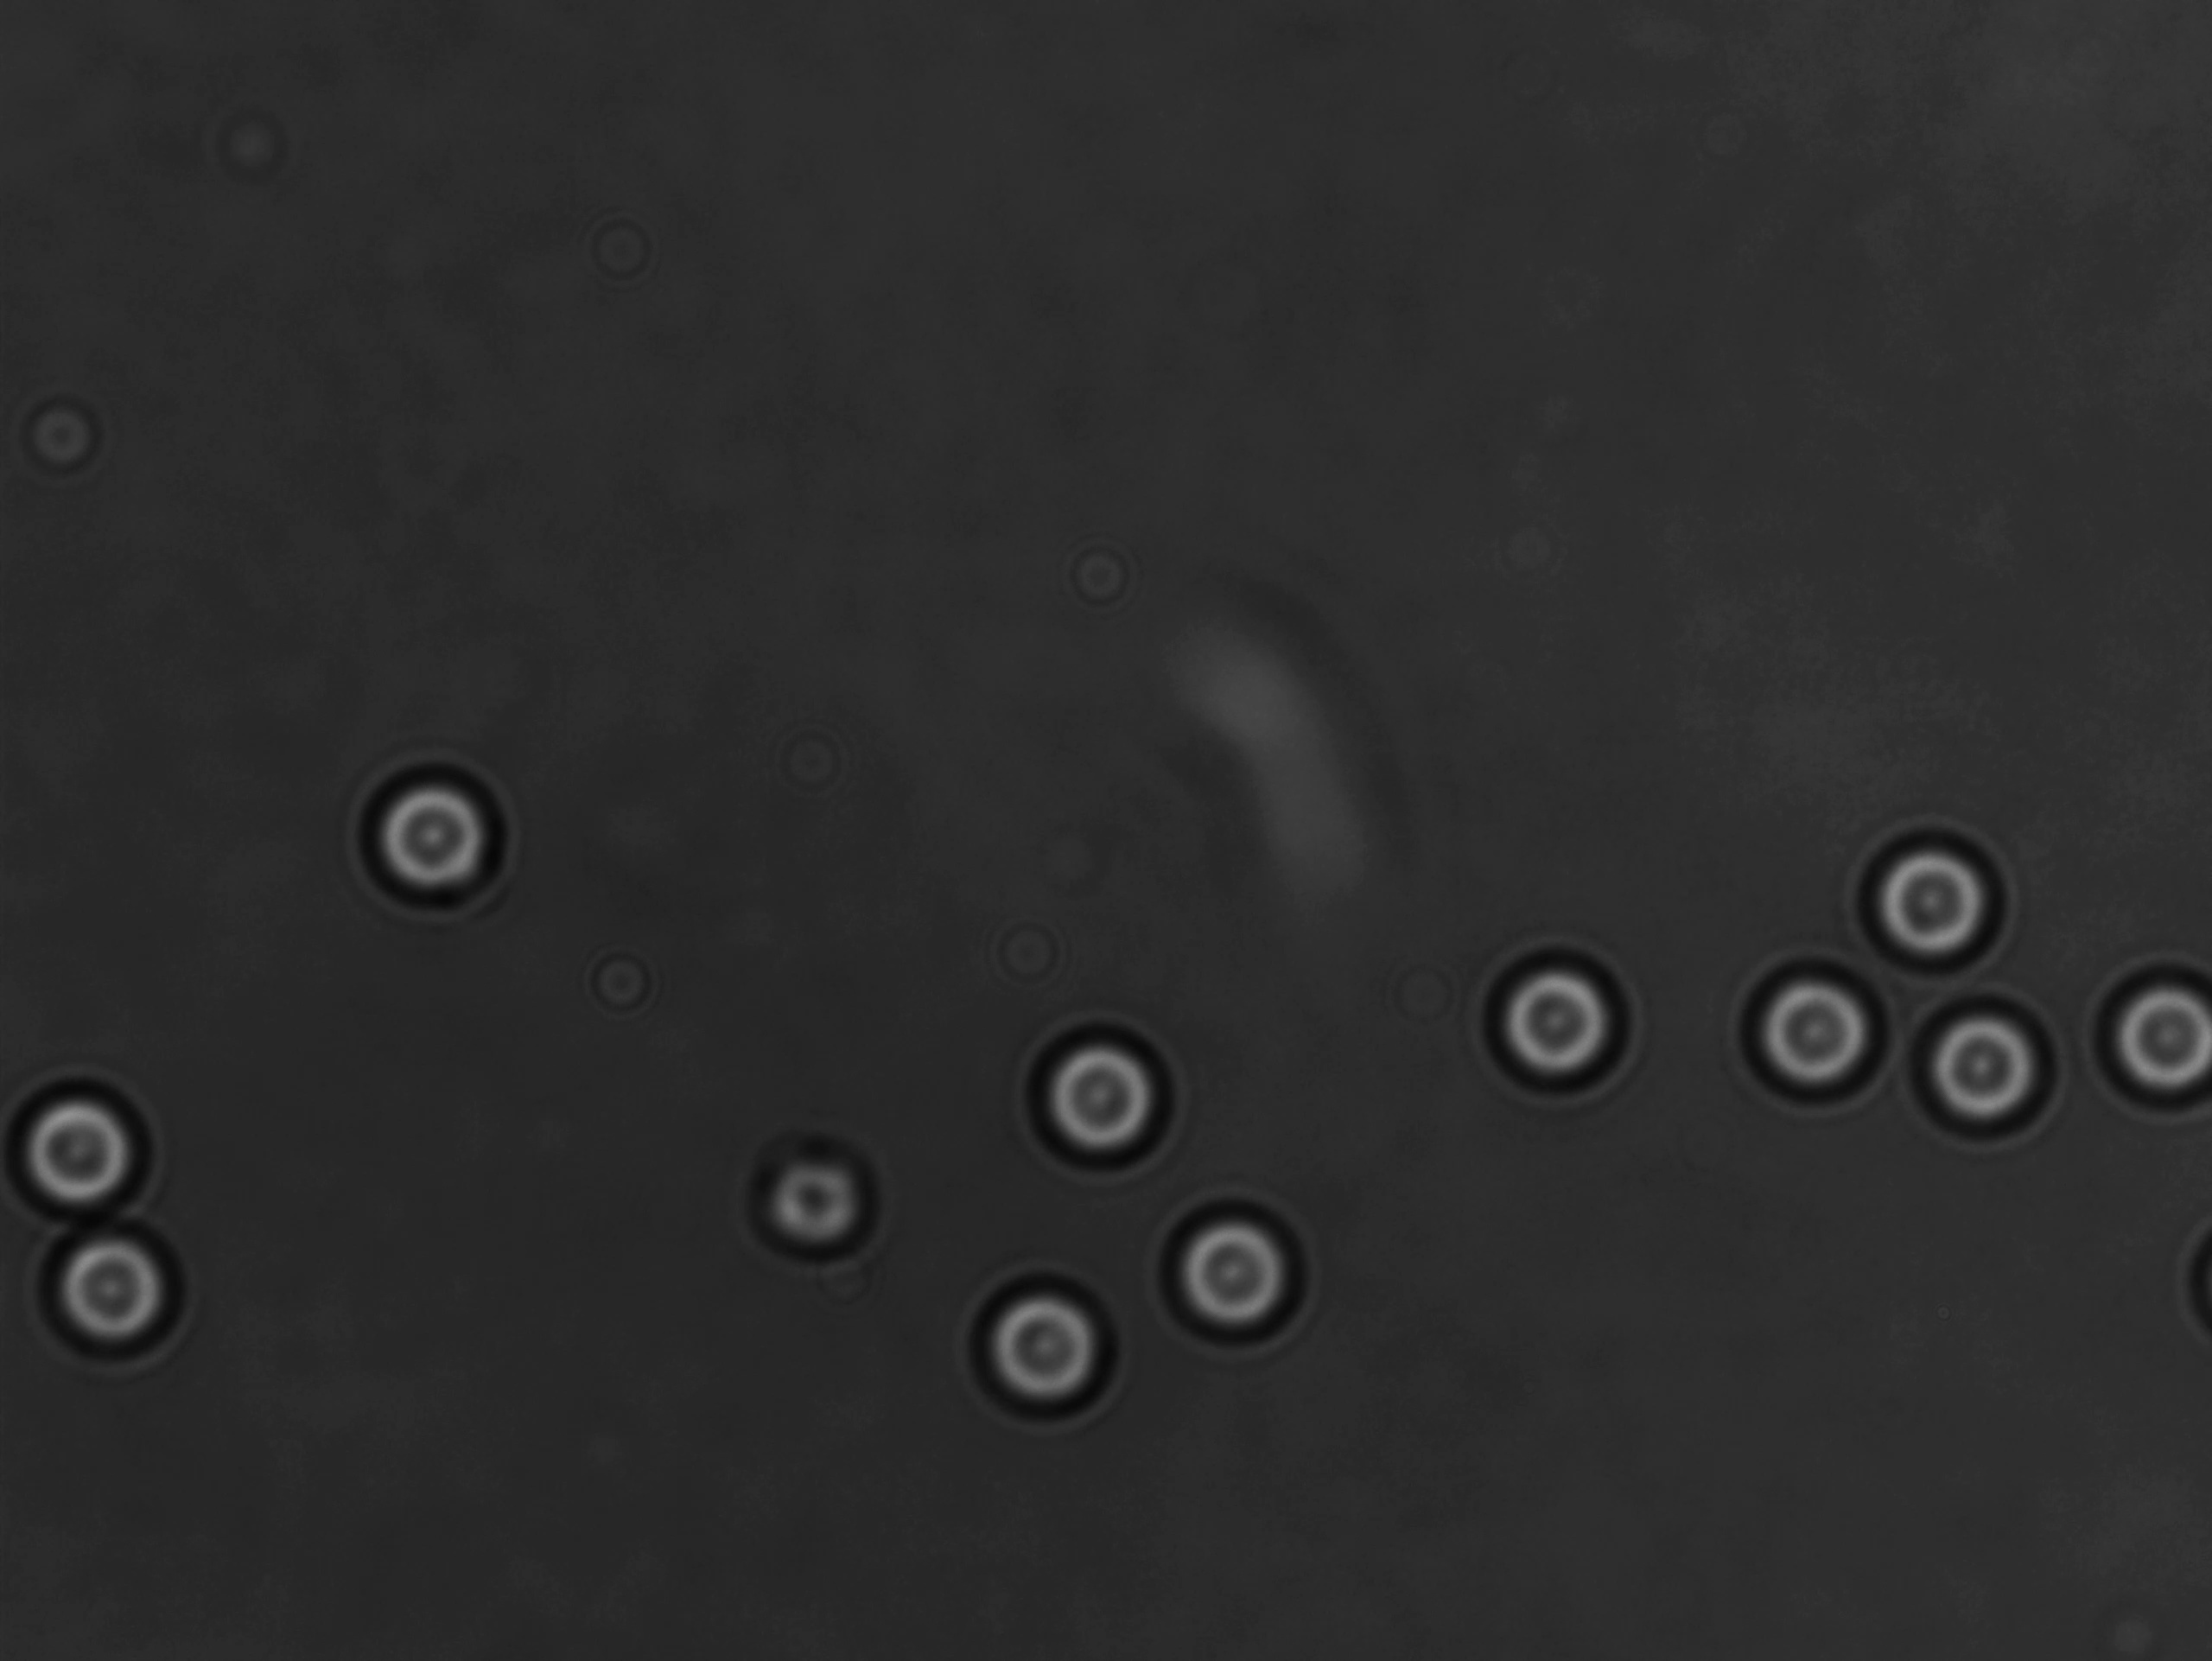depth:20: (1471, 932, 1649, 1104), (1017, 1014, 1191, 1186), (963, 1272, 1139, 1441), (1840, 801, 2010, 977), (24, 1195, 195, 1361), (345, 754, 509, 918), (5, 1073, 178, 1228), (1901, 986, 2067, 1141), (1155, 1183, 1310, 1347), (1727, 953, 1889, 1106), (2086, 947, 2212, 1136)
